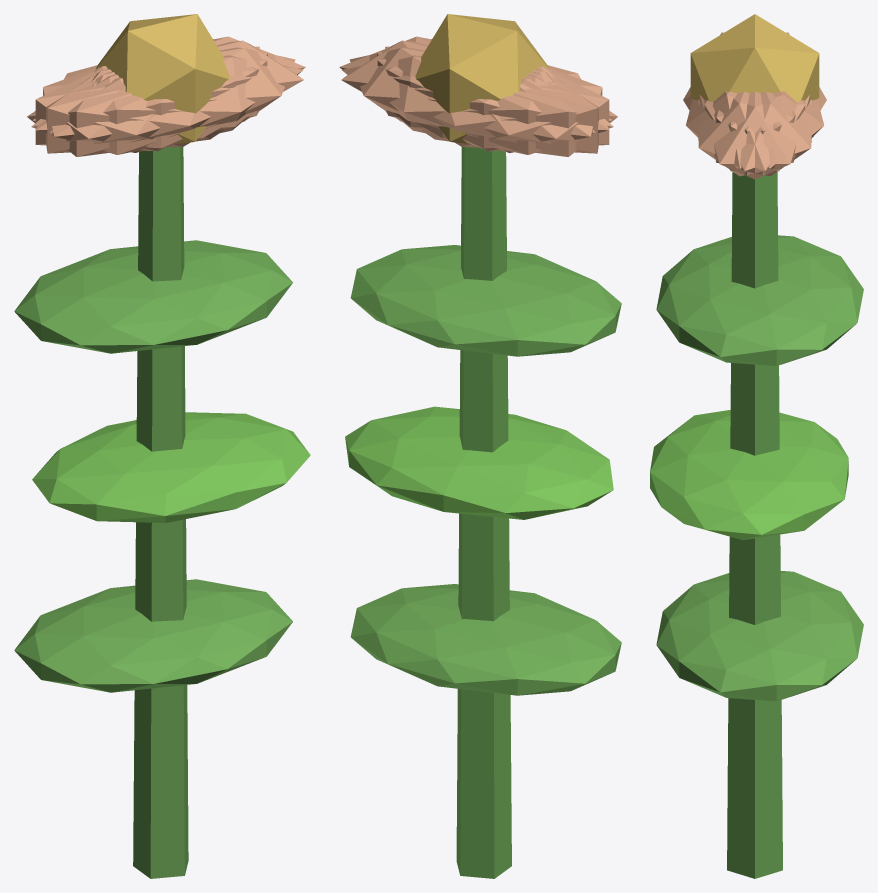
File: phyllanthus-myrtifolius.glb
The picture shows the model from 3 angles, left to right: view 1: azimuth 30°, elevation 25°; view 2: azimuth 150°, elevation 25°; view 3: azimuth 270°, elevation 25°; orthographic projection.
Visible parts, largest first — view 1: stem, leaf2, leaf1, leaf0, center, petal1, petal6, petal2, petal5, petal7, petal0, petal4 (+2 smaller); view 2: stem, leaf2, leaf0, leaf1, center, petal8, petal3, petal7, petal4, petal2, petal0, petal5 (+2 smaller); view 3: stem, leaf2, leaf1, leaf0, center, petal0, petal4, petal5, petal1, petal8.
Part boxes in pixels (x1,y1,x2,y2): stem: (133,147,188,878); leaf2: (14,240,292,353); leaf1: (32,412,310,522); leaf0: (14,579,292,692); center: (95,14,229,143); petal1: (31,55,302,154); petal6: (27,67,223,156); petal2: (46,46,259,153); petal5: (50,47,295,148); petal7: (35,52,267,151); petal0: (95,40,303,138); petal4: (32,36,305,130); stem: (456,147,511,878); leaf2: (350,245,621,356); leaf0: (350,584,621,695); leaf1: (345,406,613,519); center: (415,14,549,143); petal8: (342,55,613,154); petal3: (421,67,617,156); petal7: (385,46,598,153); petal4: (349,47,595,148); petal2: (377,52,609,151); petal0: (341,40,549,138); petal5: (339,36,612,130); stem: (727,172,782,878); leaf2: (656,235,863,365); leaf1: (650,410,848,539); leaf0: (656,571,863,701); center: (690,14,819,101); petal0: (699,91,810,179); petal4: (704,91,811,176); petal5: (698,91,805,176); petal1: (686,91,795,168); petal8: (714,91,824,168).
Bounding box in the file's own units: 0.1452 × 0.4381 × 0.1017.
